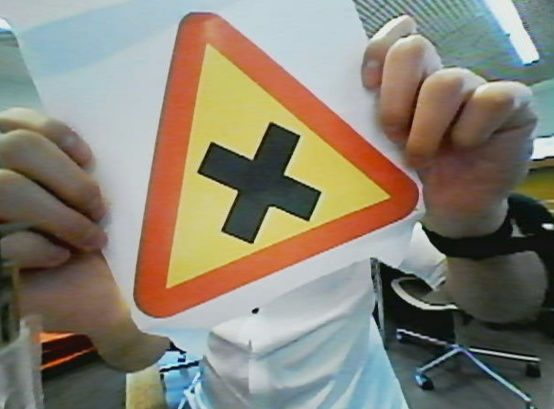junction: (108, 9, 425, 324)
